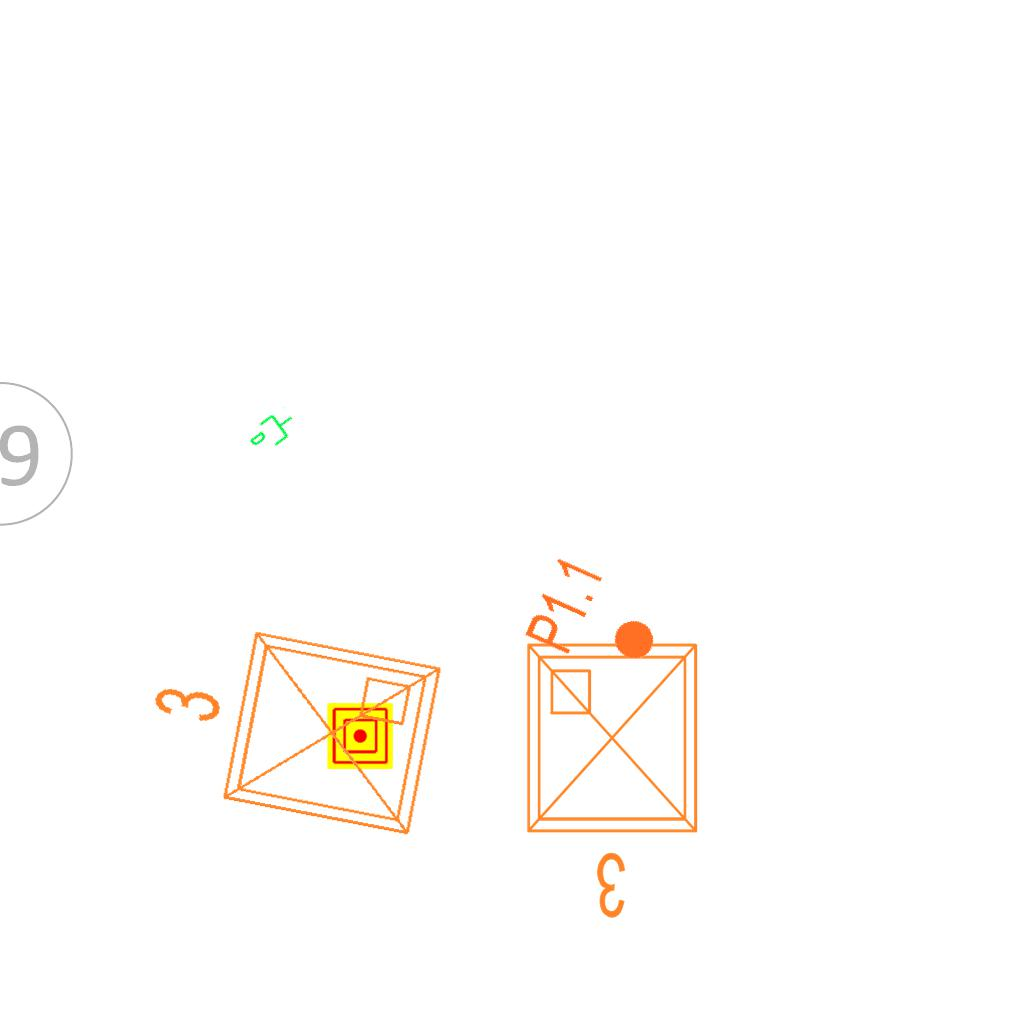Datenanschluss_einfach: (242, 403, 304, 461)
Downlight_LED_Einbauleuchten_Flur: (520, 551, 675, 689)
Einbaudownlights_LED_Konferenzraeume: (123, 598, 459, 860), (512, 629, 720, 929)
NAM-Nichtautomatischer_Melder: (327, 703, 393, 769)
